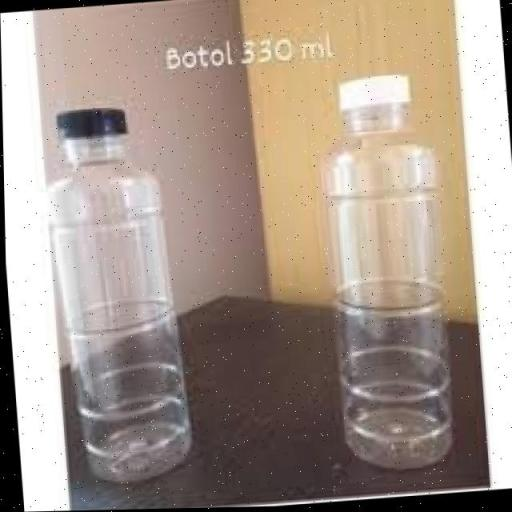plastic: (311, 70, 464, 482), (38, 98, 188, 495)
